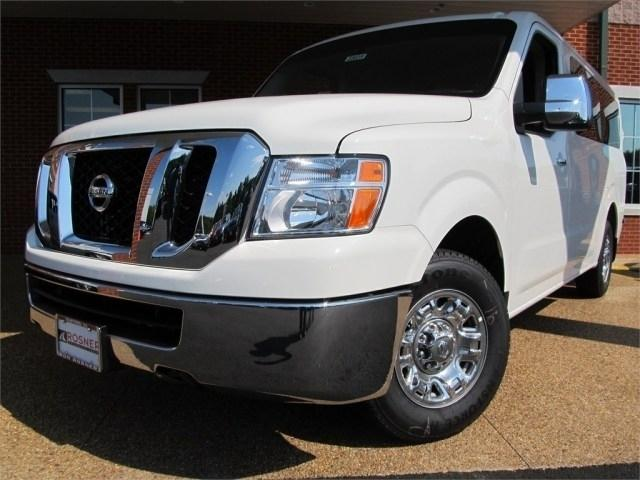car: (21, 9, 626, 435)
